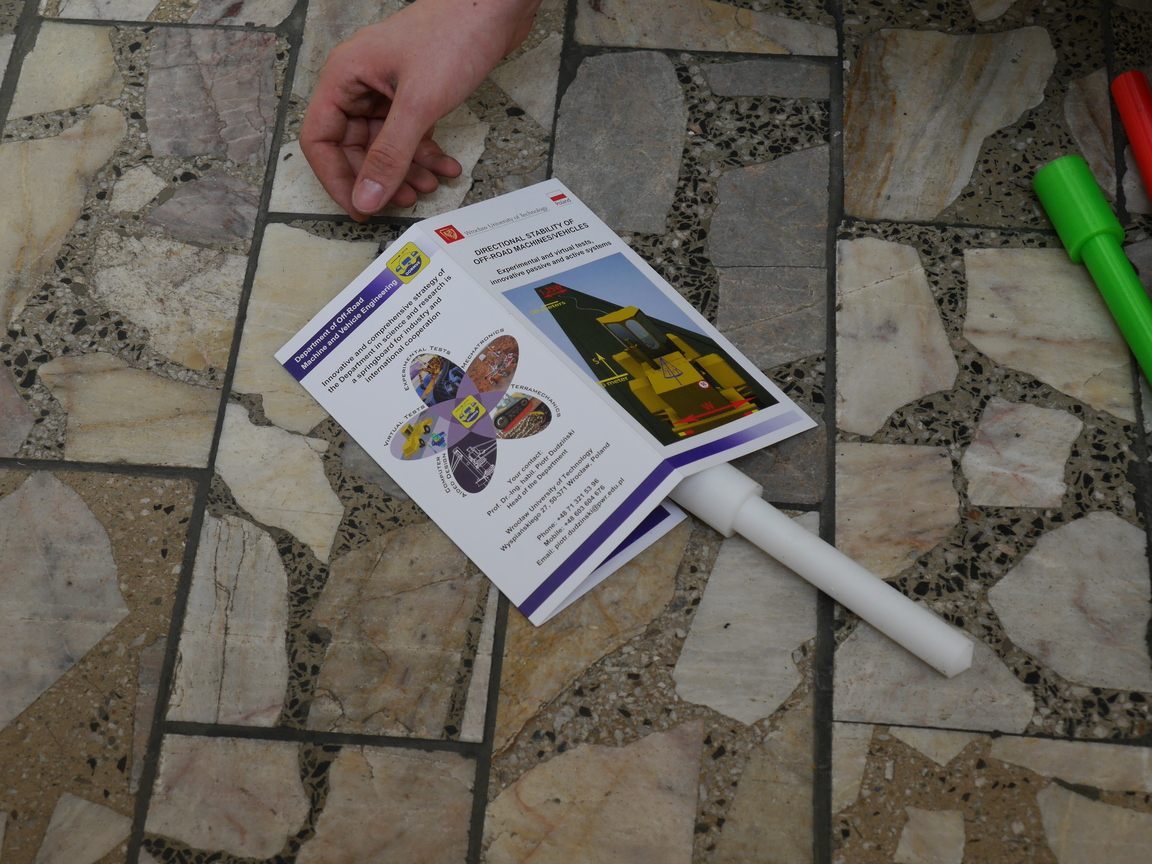cargo_g: (663, 457, 973, 677), (1033, 159, 1152, 382)
